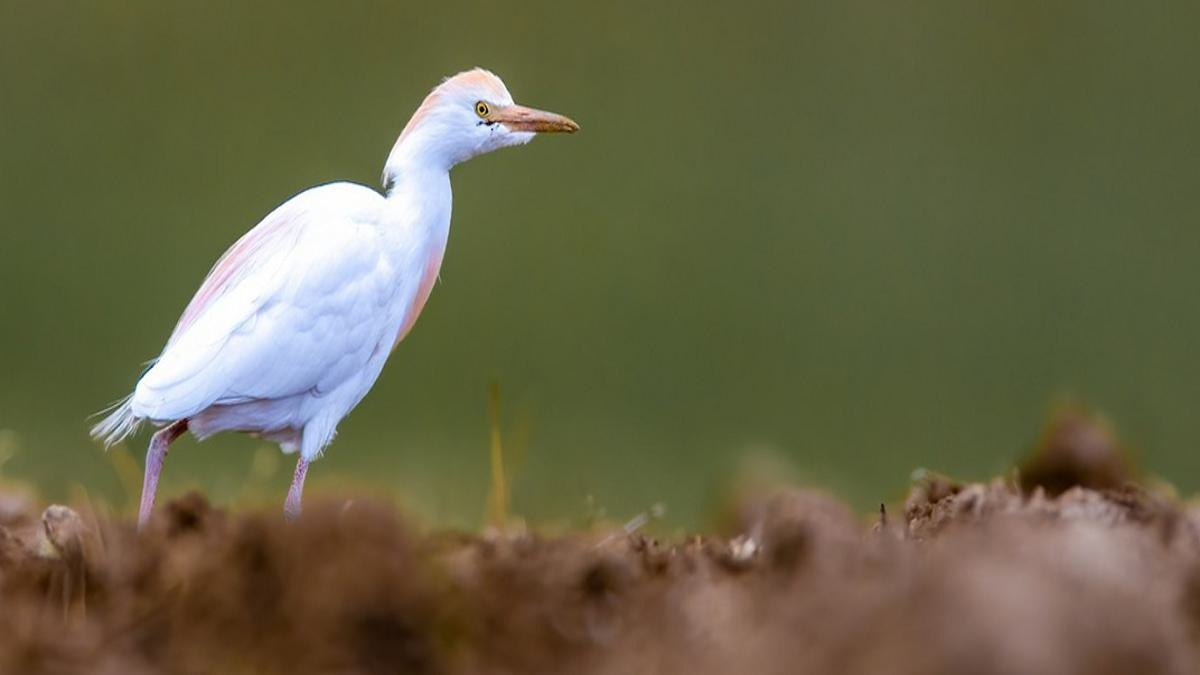egret: (104, 62, 588, 557)
